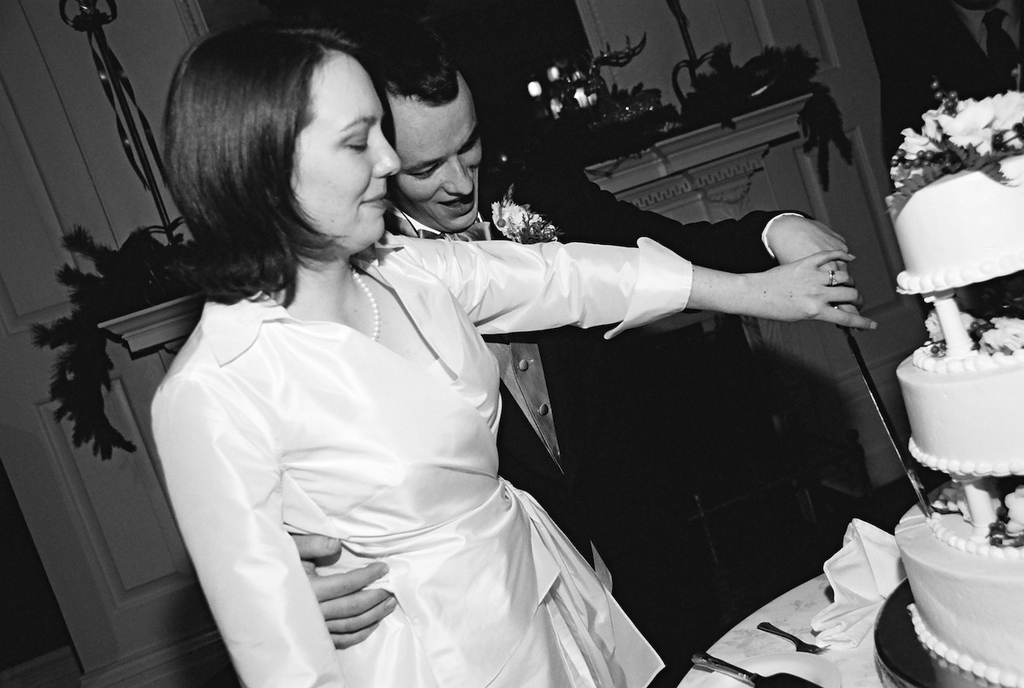cake: (890, 154, 1023, 687)
